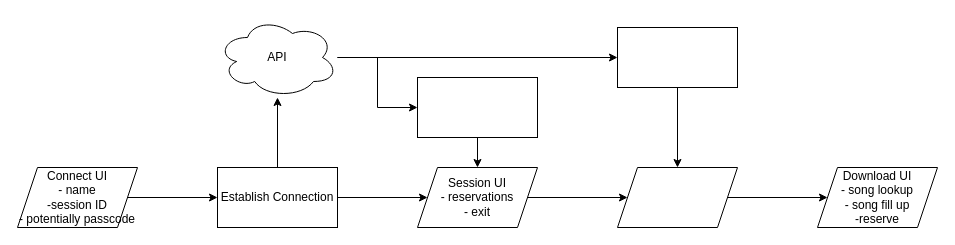
Image size: 955x245. Some labels were removed from this diagram. Each missing label, with the centre of its shape:
"Get list of songs" goes at (677,57).
"Socket.io - actively update song list" goes at (477,107).
"Song Book UI - song lookup - reserve" goes at (677,197).
